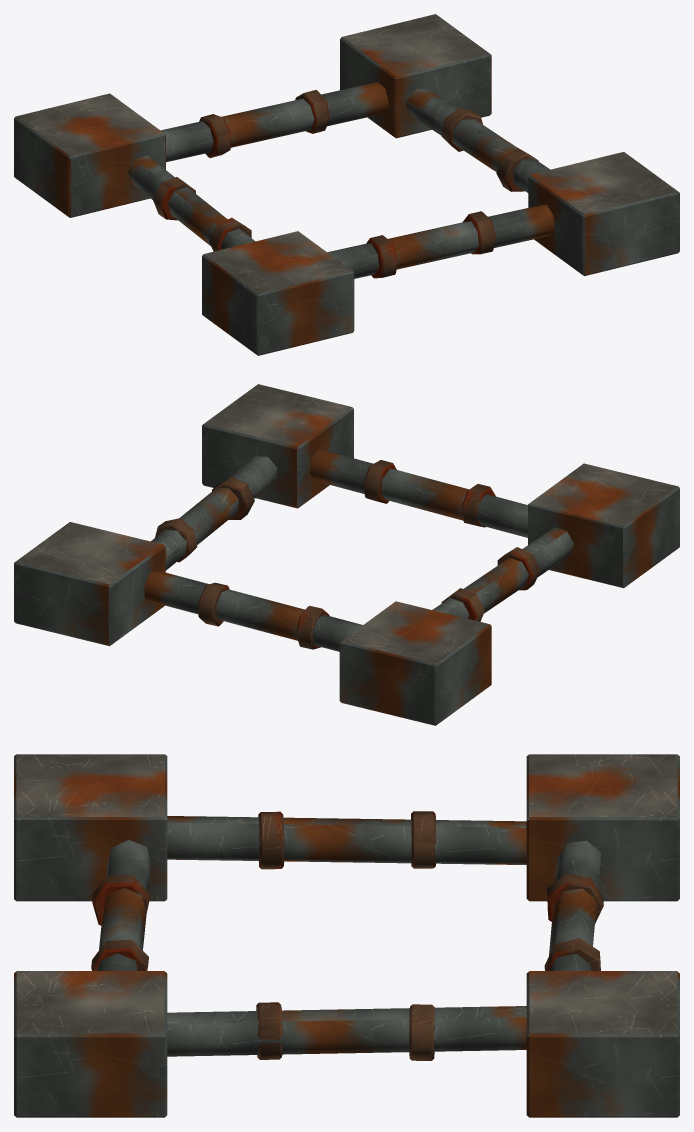
Rendered from R4C_ROD_FRAME_LOD1.glb.
3 views of the same model, one above another, from view 1: azimuth 30°, elevation 25°; view 2: azimuth 150°, elevation 25°; view 3: azimuth 270°, elevation 25° (orthographic). The views are drawn at different scales.
Parts seen in each view (by area): view 1: R4C_ROD_FRAME_LOD1; view 2: R4C_ROD_FRAME_LOD1; view 3: R4C_ROD_FRAME_LOD1.
Part boxes in pixels (bbox=[...]): R4C_ROD_FRAME_LOD1: bbox=[14, 14, 679, 355]; R4C_ROD_FRAME_LOD1: bbox=[14, 384, 679, 725]; R4C_ROD_FRAME_LOD1: bbox=[14, 754, 679, 1117].
Size of the model in its own units: 1.62 by 0.226 by 1.62.
Materials: 3 (3 with a texture image).
